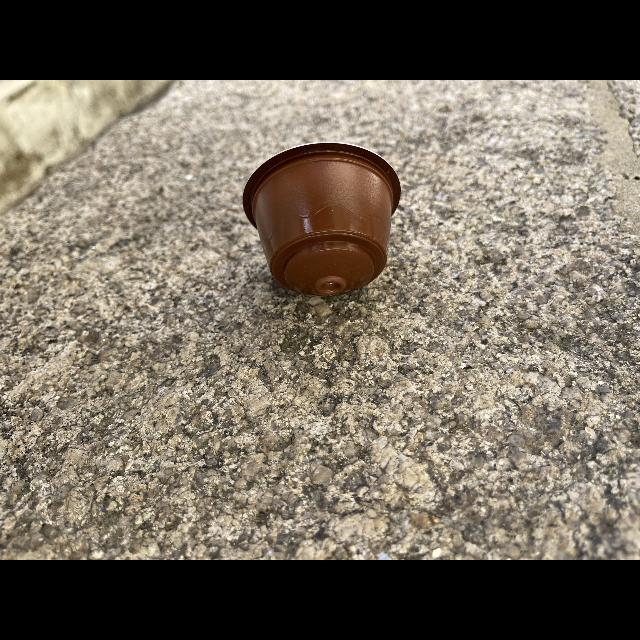intact_capsule: (233, 133, 411, 313)
